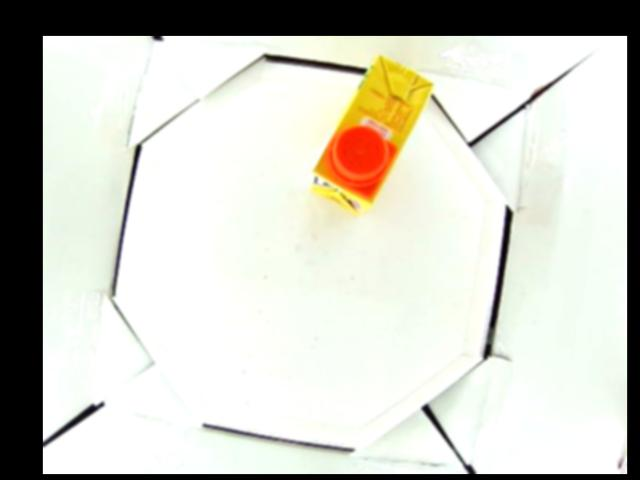Bottle: (307, 54, 434, 213)
